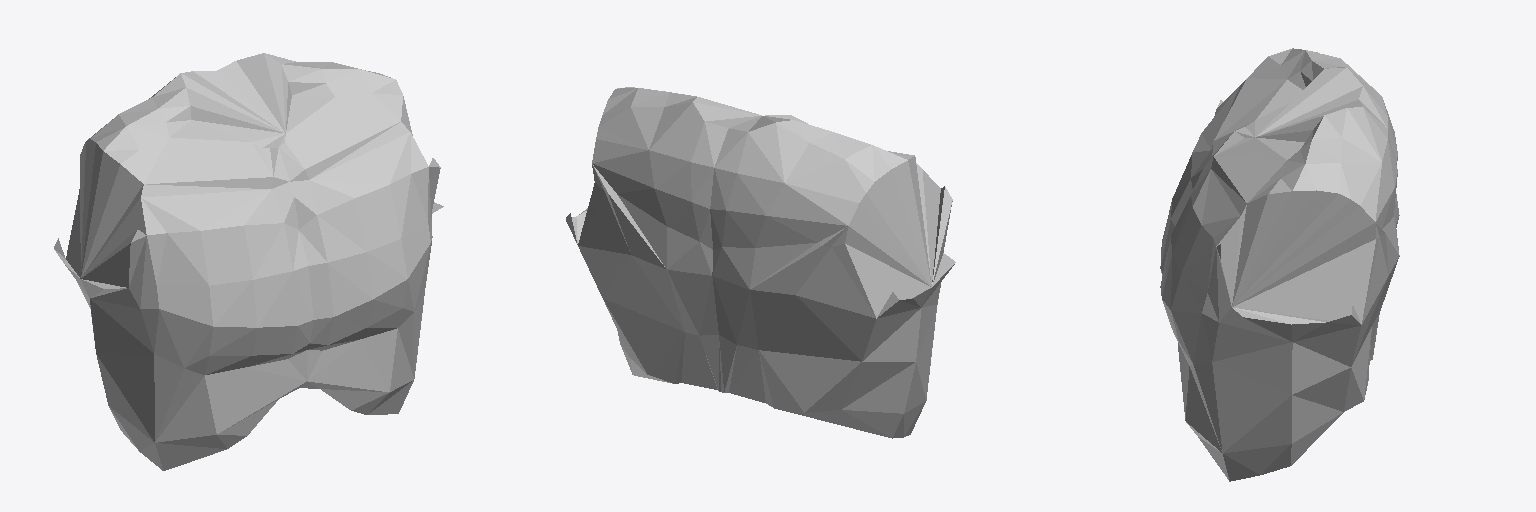
The model's file is chest.obj.
3 renders of one model, left to right at view 1: azimuth 30°, elevation 25°; view 2: azimuth 150°, elevation 25°; view 3: azimuth 270°, elevation 25°, orthographic.
Visible parts, largest first — view 1: cube1_cut9; view 2: cube1_cut9; view 3: cube1_cut9.
Boxes of the visible parts, box(x1,y1,x2,y2) form: cube1_cut9: box(54, 53, 443, 470); cube1_cut9: box(566, 87, 955, 438); cube1_cut9: box(1160, 48, 1399, 481).
Bounding box in the file's own units: 2.12 × 2.01 × 1.3.